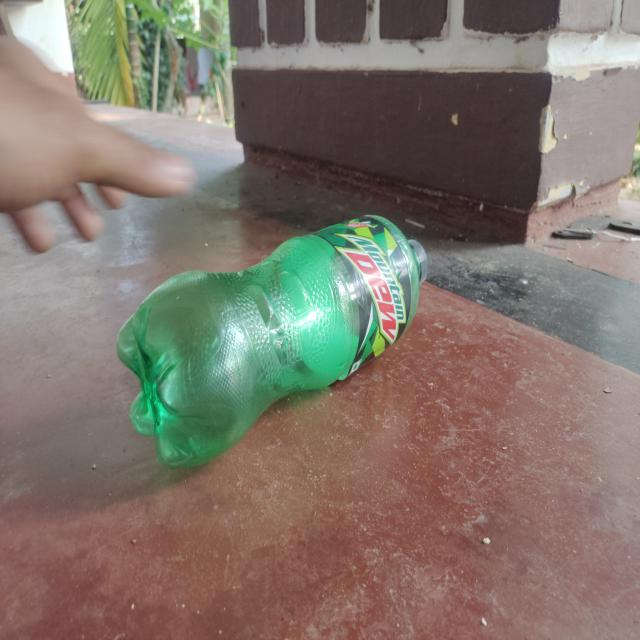plastic: (112, 209, 431, 472)
